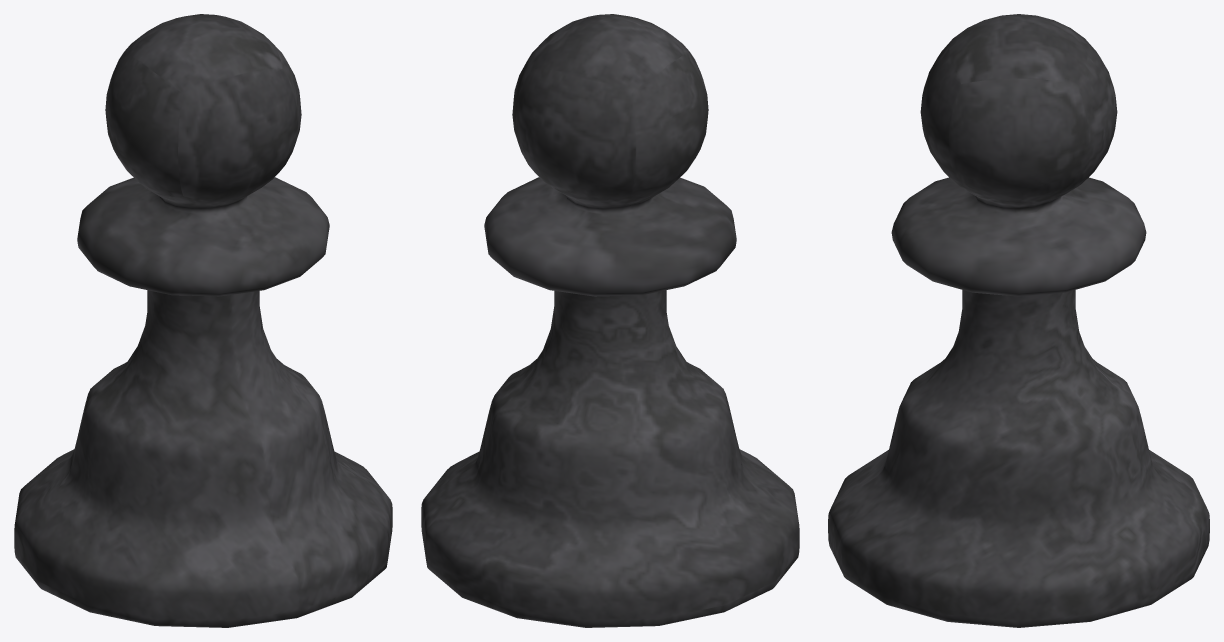
File: GEO_BlackPawn.obj
3 views of the same model, side by side, from view 1: azimuth 30°, elevation 25°; view 2: azimuth 150°, elevation 25°; view 3: azimuth 270°, elevation 25° (orthographic).
Parts seen in each view (by area): view 1: GEO_BlackPawn_01; view 2: GEO_BlackPawn_01; view 3: GEO_BlackPawn_01.
Part boxes in pixels (x1=…): GEO_BlackPawn_01: x1=14, y1=14, x2=392, y2=627; GEO_BlackPawn_01: x1=421, y1=14, x2=799, y2=627; GEO_BlackPawn_01: x1=828, y1=14, x2=1209, y2=627.
Bounding box in the file's own units: 0.034 × 0.0518 × 0.034.
